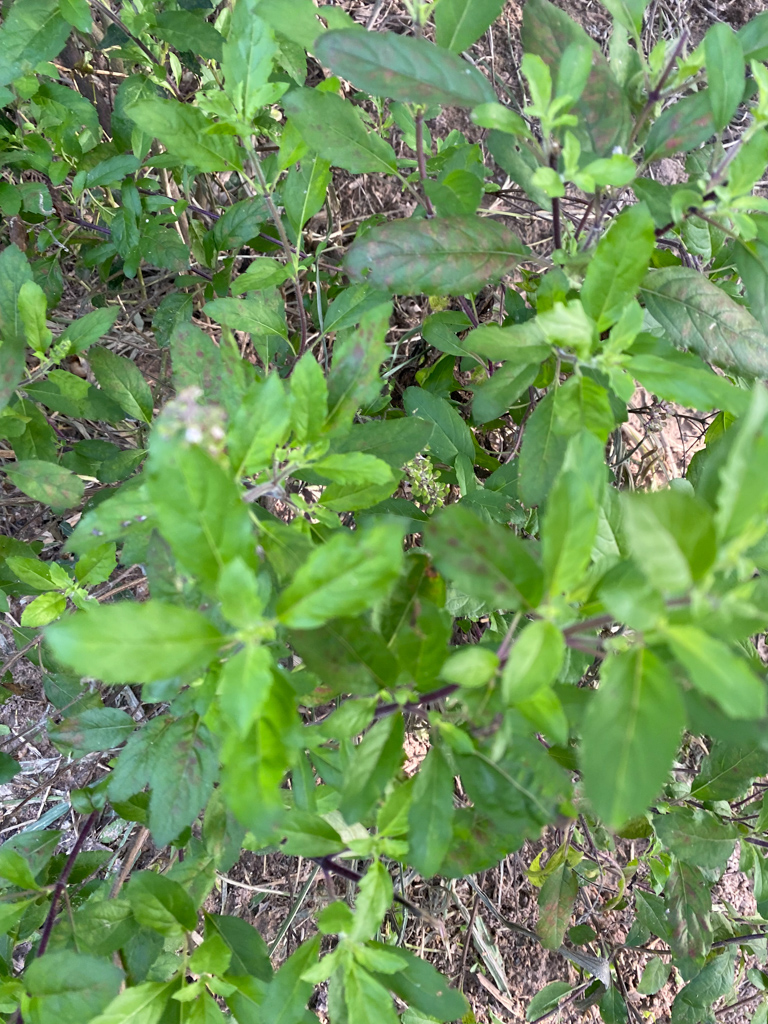Canker: (433, 517, 516, 594), (342, 323, 378, 369), (466, 814, 500, 842)
